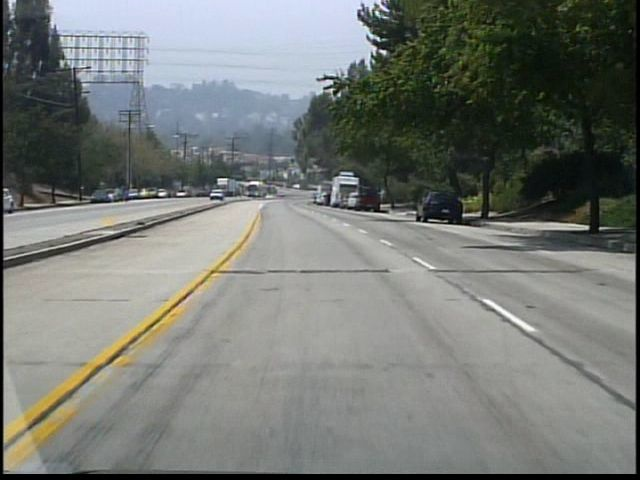person: (377, 183, 389, 209)
